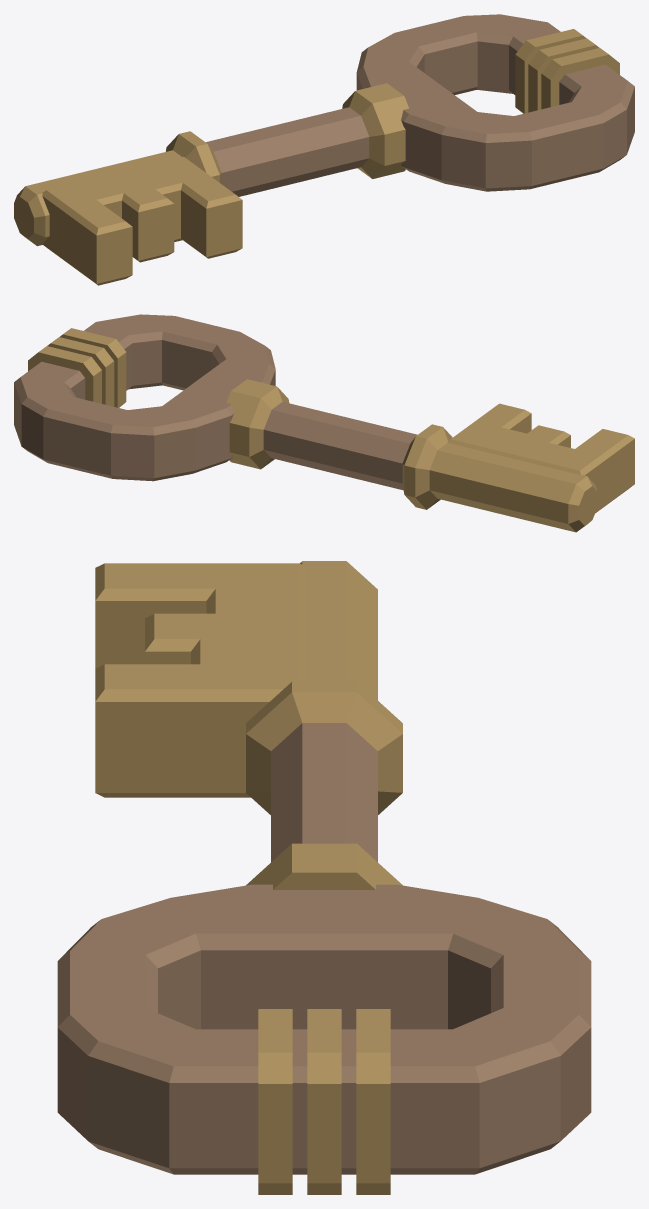
File: chest-key-458007.glb
3 views of the same model, one above another, from view 1: azimuth 30°, elevation 25°; view 2: azimuth 150°, elevation 25°; view 3: azimuth 270°, elevation 25° (orthographic). The views are drawn at different scales.
Parts seen in each view (by area): view 1: key-body; view 2: key-body; view 3: key-body.
Part boxes in pixels (box(x1,y1,x2,y2)): key-body: box(14, 14, 634, 285); key-body: box(14, 314, 634, 532); key-body: box(57, 561, 591, 1194).
Size of the model in its own units: 0.2 by 0.025 by 0.085.
